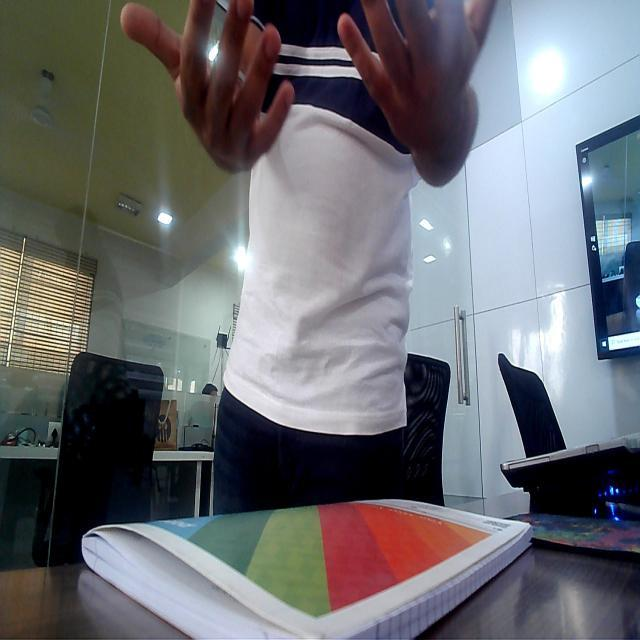without_gloves: (115, 0, 300, 181), (329, 0, 501, 130)
